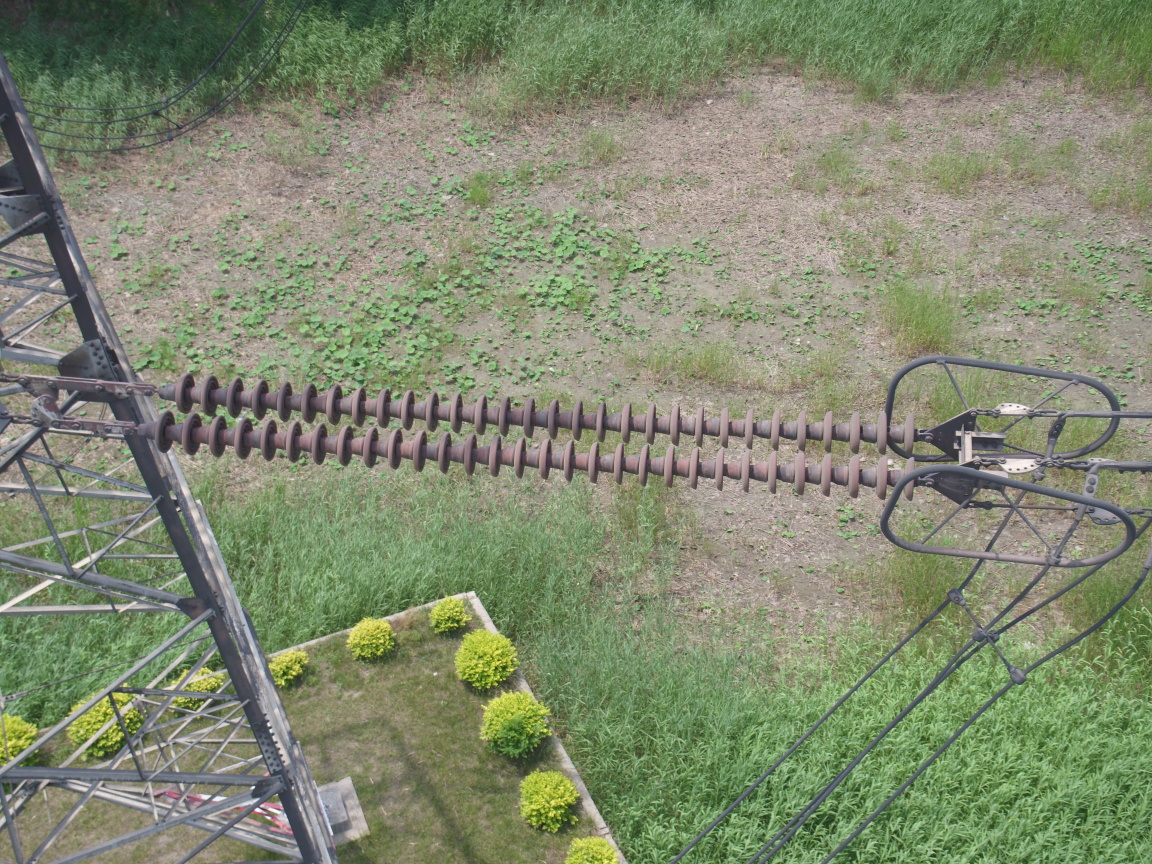insulator: (76, 364, 944, 503)
